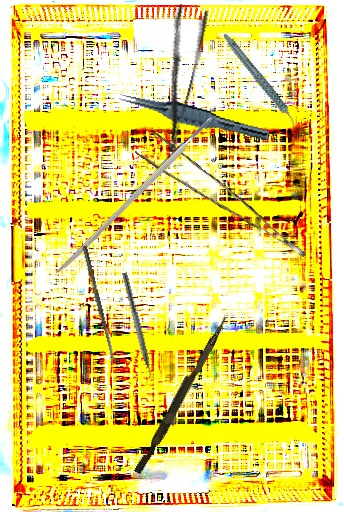Chopper: (114, 272, 157, 387)
Dressing Forceps: (142, 3, 212, 154)
Handpiece: (222, 23, 297, 140)
Pusher: (133, 313, 229, 477)
Scalpel Handle: (54, 114, 217, 277)
Surgical Spoon: (81, 245, 117, 366)
Tissue Forceps: (134, 122, 307, 284), (116, 89, 272, 142)
